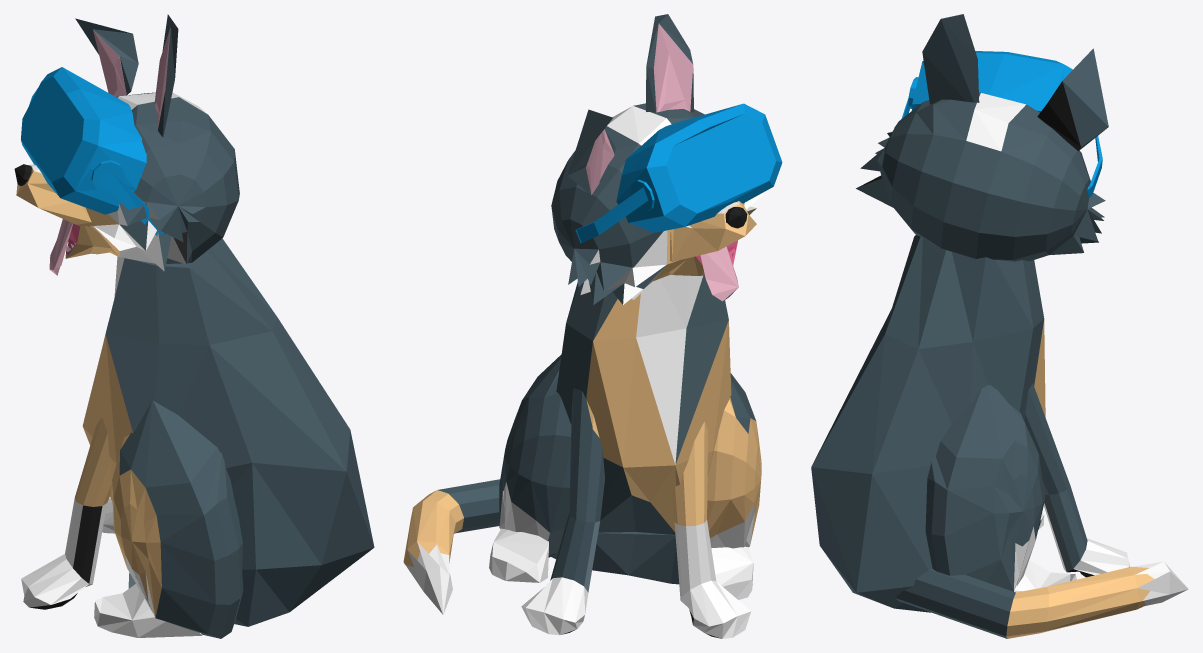
3 views of the same model, side by side, from view 1: azimuth 30°, elevation 25°; view 2: azimuth 150°, elevation 25°; view 3: azimuth 270°, elevation 25° (orthographic). The views are drawn at different scales.
Parts seen in each view (by area): view 1: mesh_881173856, group_541844300, mesh_607093873, group_1892828349, mesh_1126269082, mesh_1750416126; view 2: mesh_881173856, group_541844300, group_1892828349, mesh_1736780075, mesh_674617895, mesh_1126269082, mesh_607093873, mesh_1237190481, mesh_433515043, mesh_1750416126; view 3: mesh_881173856, group_541844300, mesh_1736780075, mesh_1237190481, mesh_674617895, group_1892828349, mesh_433515043.
Part boxes in pixels (x1,y1,x2,y2): mesh_881173856: (82, 238, 374, 626); group_541844300: (14, 14, 239, 275); mesh_607093873: (112, 400, 243, 638); group_1892828349: (21, 67, 165, 235); mesh_1126269082: (21, 417, 111, 609); mesh_1750416126: (94, 584, 202, 637); mesh_881173856: (550, 274, 731, 584); group_541844300: (551, 14, 763, 304); group_1892828349: (575, 103, 782, 242); mesh_1736780075: (499, 354, 571, 557); mesh_674617895: (521, 388, 604, 635); mesh_1126269082: (672, 421, 751, 638); mesh_607093873: (707, 373, 761, 548); mesh_1237190481: (403, 479, 500, 614); mesh_433515043: (489, 528, 548, 582); mesh_1750416126: (711, 546, 753, 599); mesh_881173856: (811, 235, 1045, 612); group_541844300: (856, 14, 1108, 261); mesh_1736780075: (925, 385, 1044, 591); mesh_1237190481: (895, 561, 1188, 638); mesh_674617895: (1025, 383, 1129, 577); group_1892828349: (901, 51, 1102, 198); mesh_433515043: (1014, 560, 1076, 592).
Bounding box in the file's own units: 50.41 × 84.64 × 51.65.
